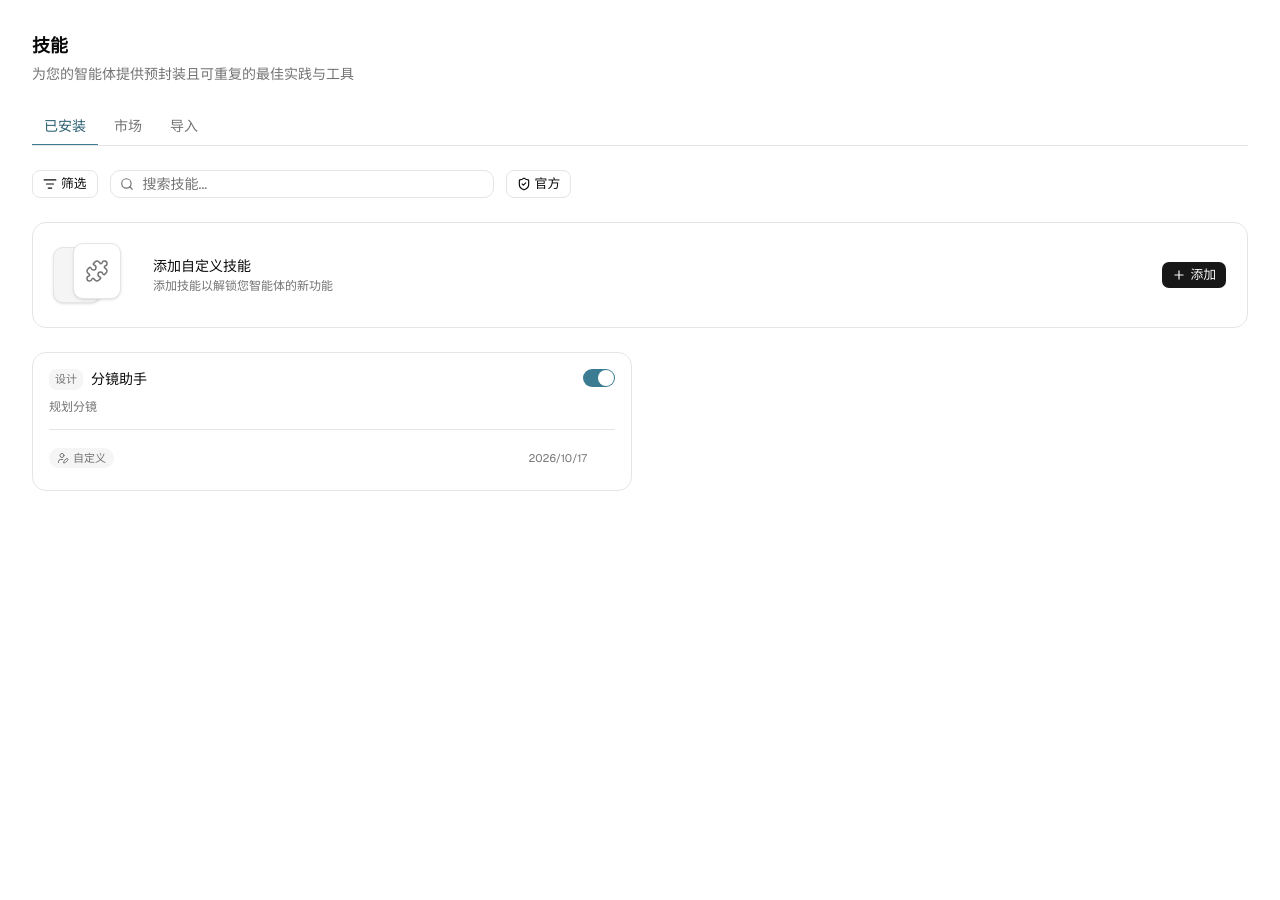
Test: rolls back a failed skill toggle and shows a toast when retry succeeds
Click the switch named "启用 分镜助手".
click(599, 378)  # box x1=583 y1=369 x2=615 y2=387
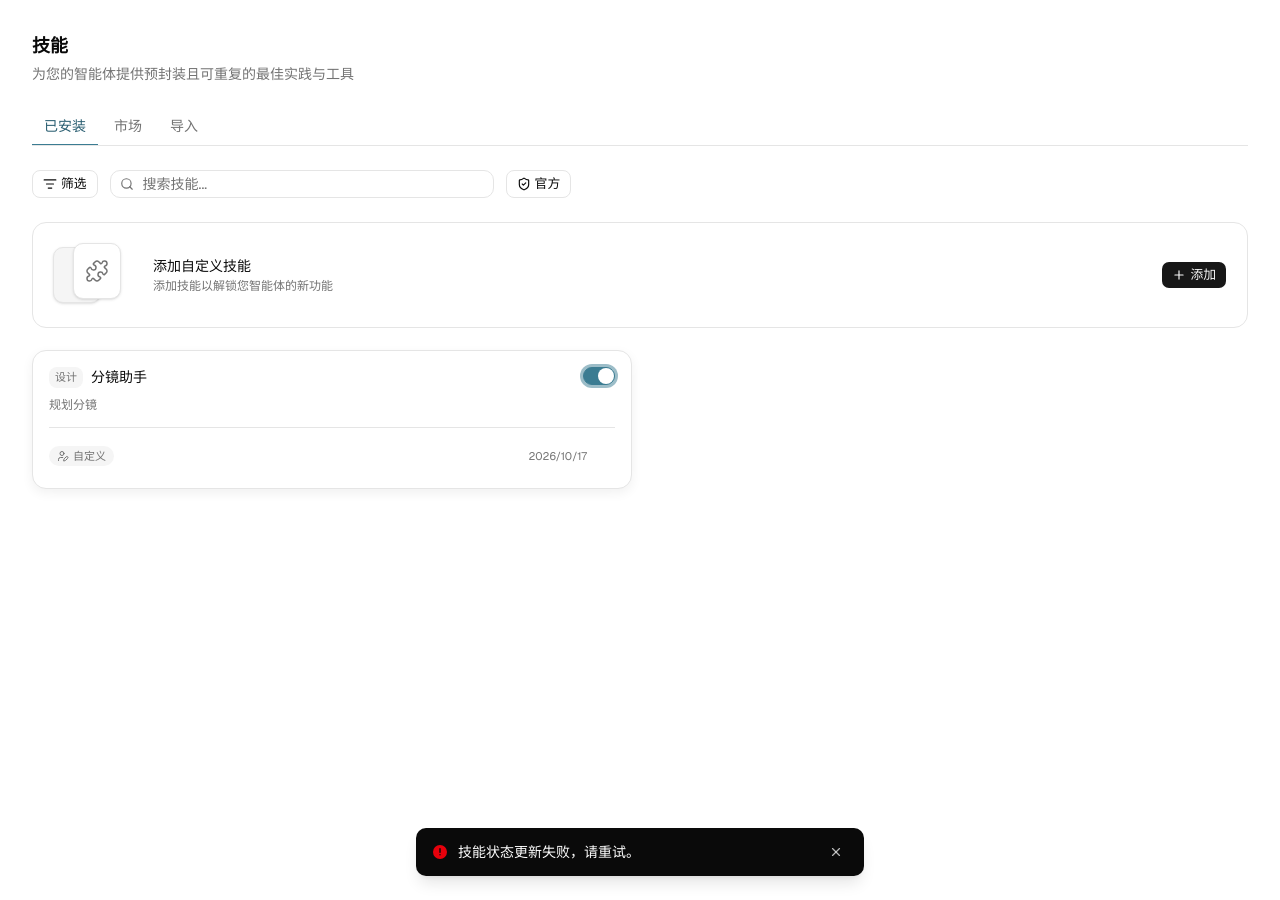
Expected: the message shows "技能状态更新失败", x1=458 y1=843 x2=640 y2=861
Click the switch named "启用 分镜助手".
click(599, 376)  # box x1=583 y1=367 x2=615 y2=385
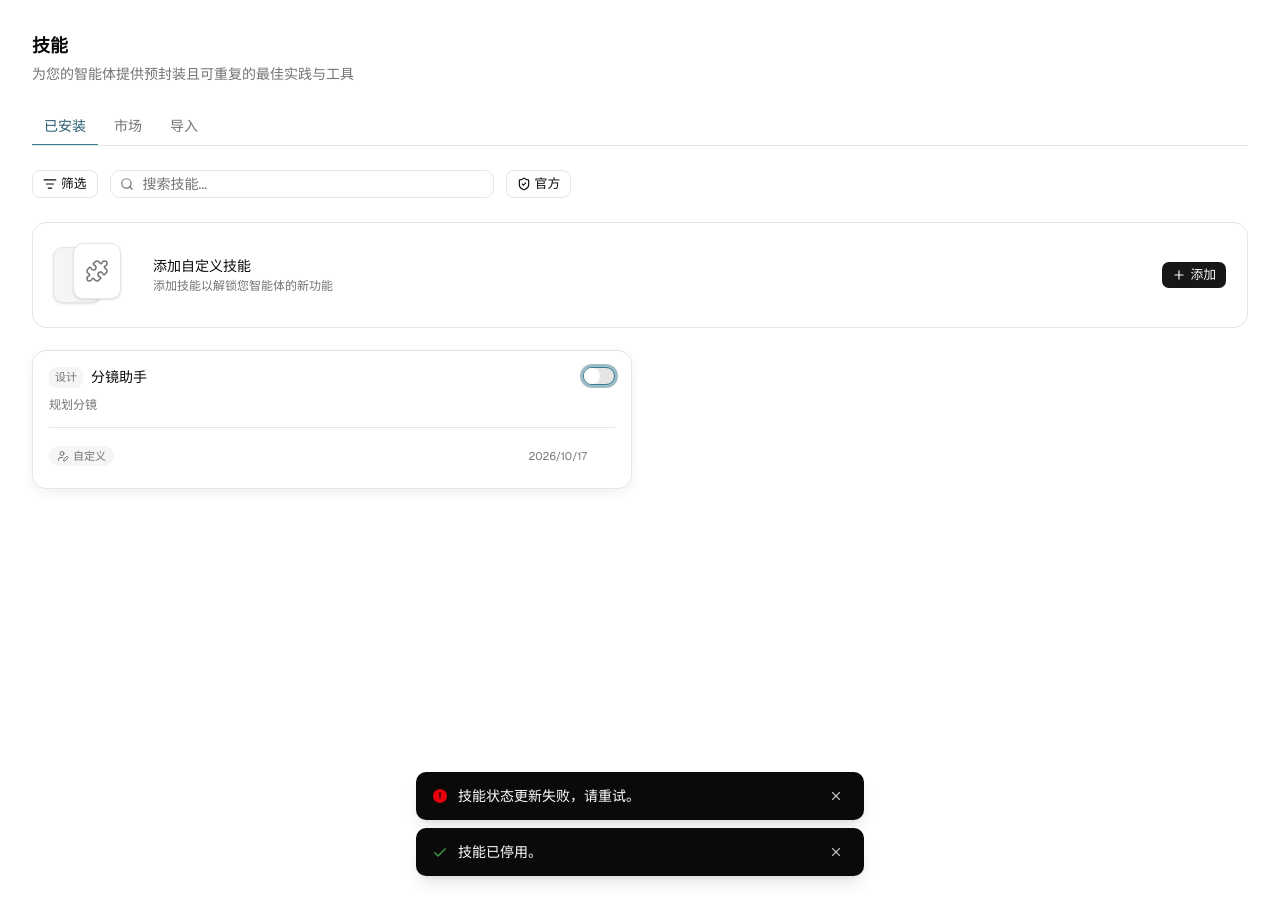
Expected: the switch named "启用 分镜助手" is not checked, x1=583 y1=367 x2=615 y2=385
Expected: the message "技能已停用。" is shown, x1=416 y1=828 x2=864 y2=876
